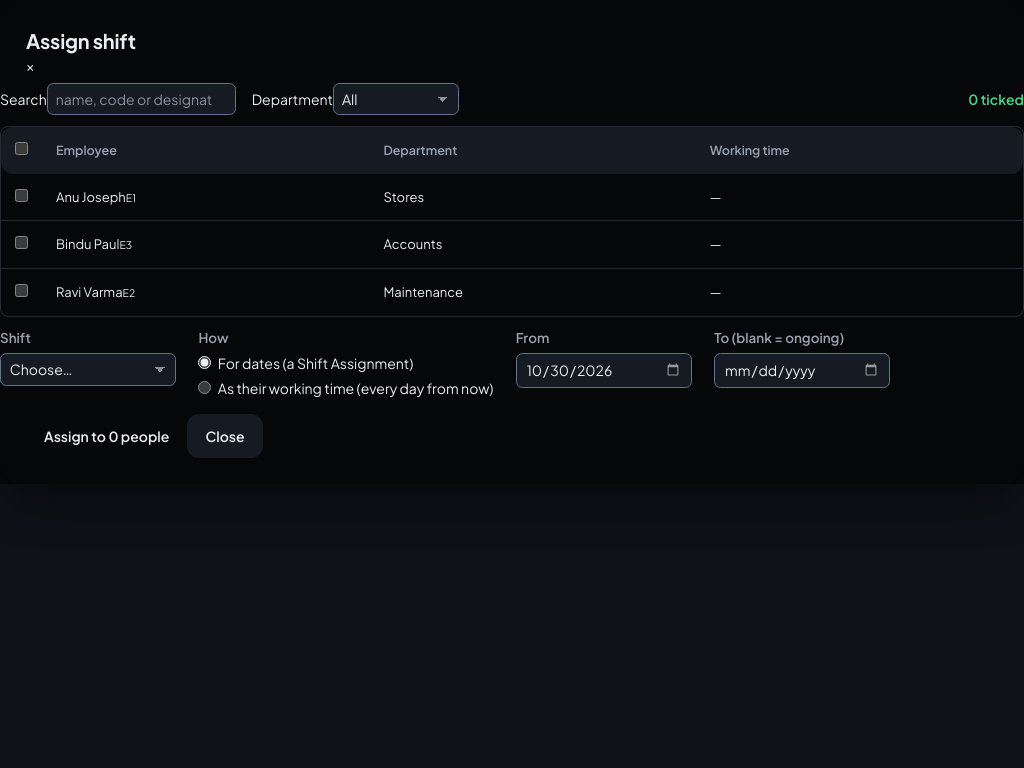
Test case: the Assign shift window › gives the shift to everybody ticked, says how each one went, and keeps the refused ones ticked
Click the checkbox named "Tick Anu Joseph" at (22, 195), box [15, 188, 28, 202]
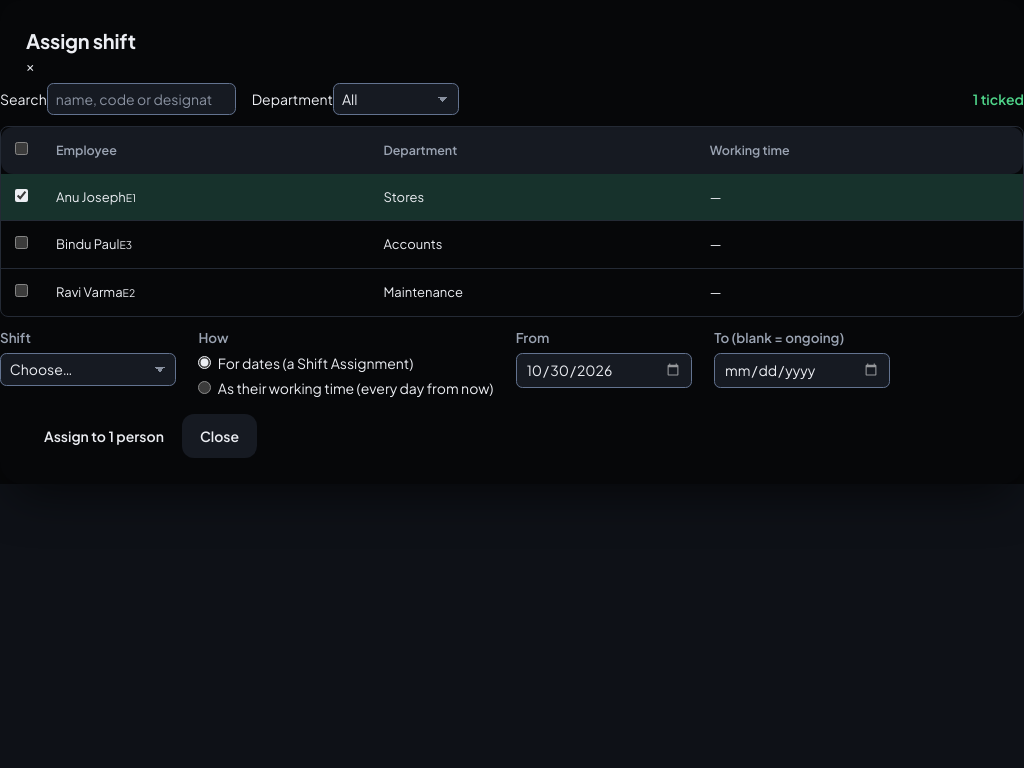
Click the checkbox named "Tick Ravi Varma" at (22, 291), box [15, 284, 28, 297]
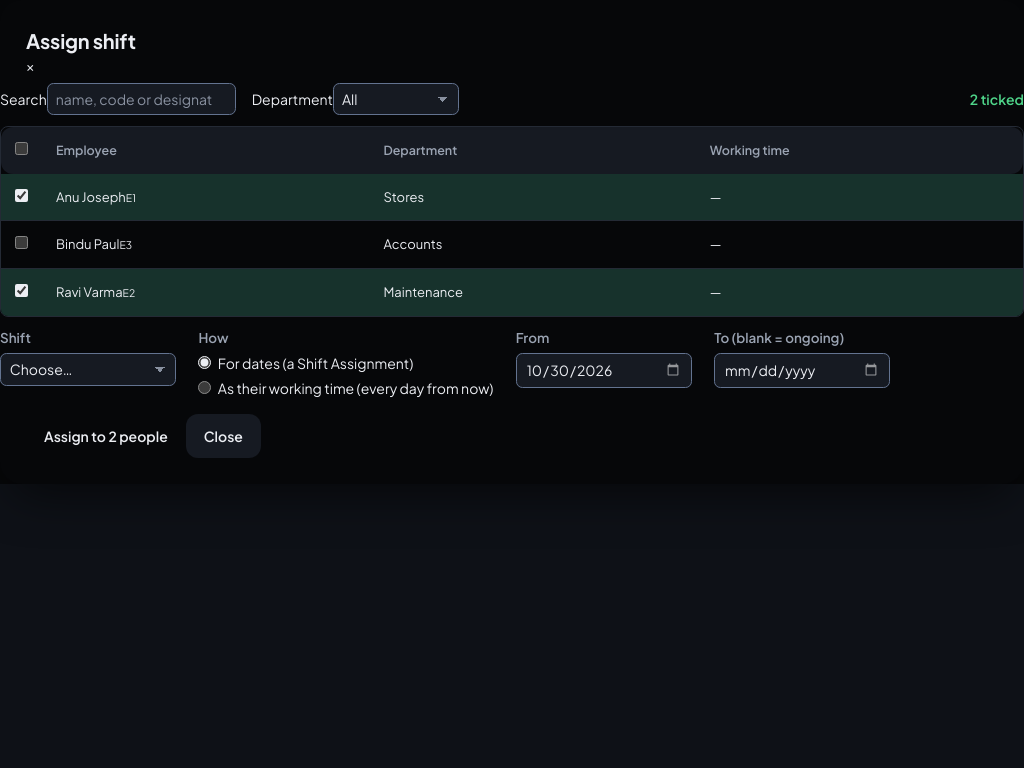
Select "MT Night" in the dropdown labelled "Shift" at (88, 369), box [0, 352, 176, 386]
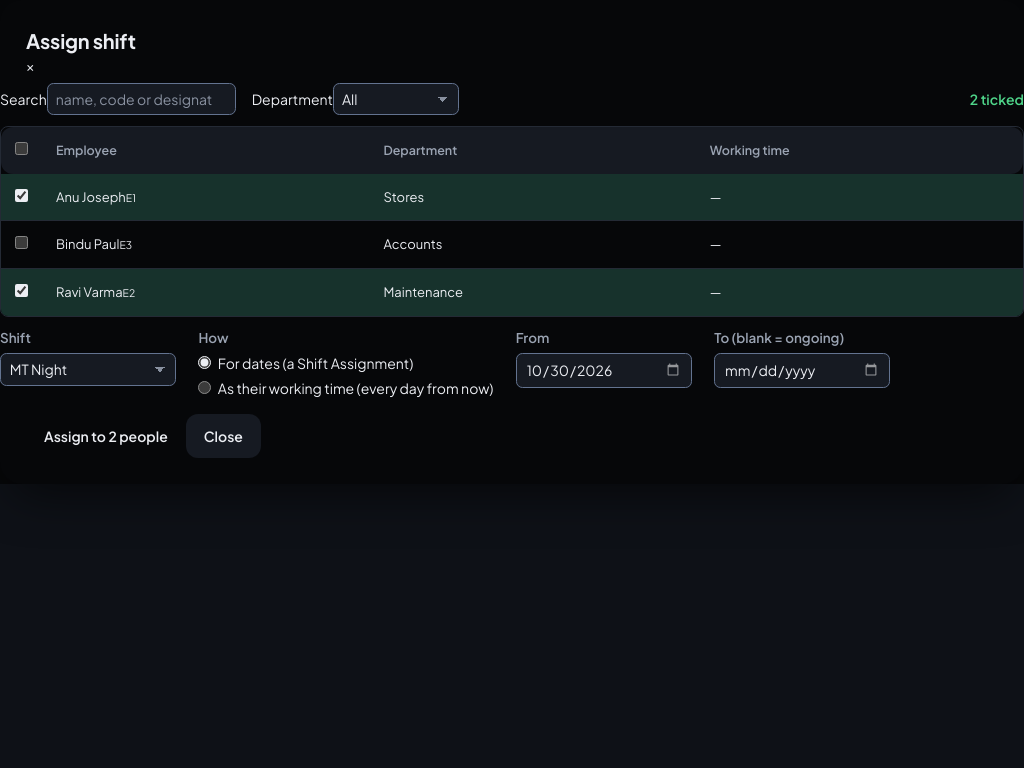
Click the button "Assign to 2 people" at (106, 436), box [26, 414, 186, 458]
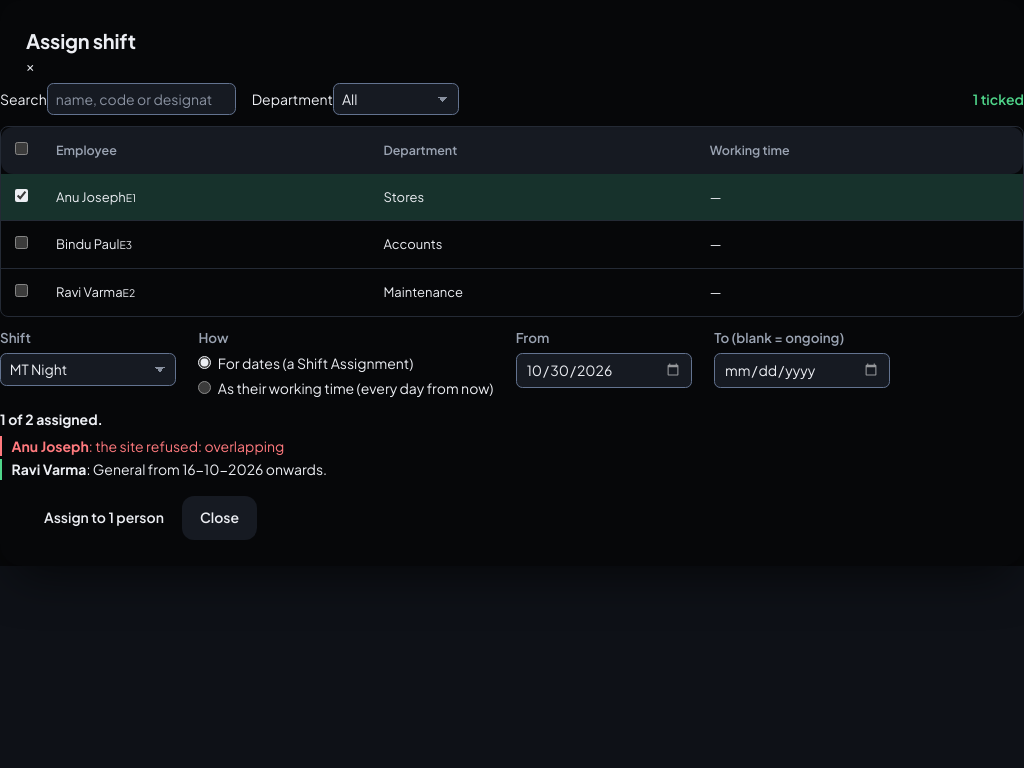
Expected: the checkbox named "Tick Anu Joseph" is checked, [15, 188, 28, 202]
Expected: the text "1 of 2 assigned." is shown, [0, 410, 103, 428]
Expected: the text "Anu Joseph: the site refused: overlapping" is shown, [0, 436, 1023, 456]
